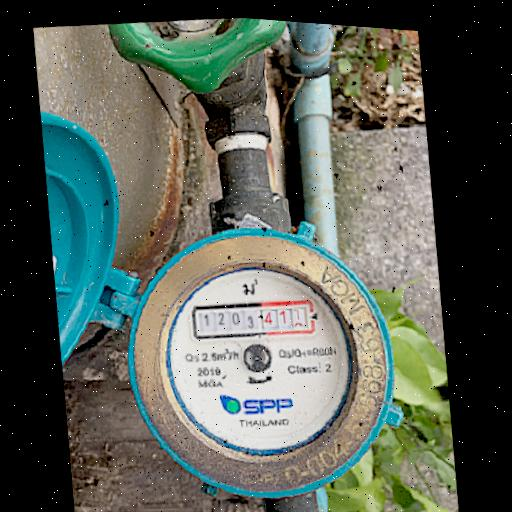0: (230, 310, 245, 331)
1: (200, 313, 215, 334), (277, 309, 292, 330), (292, 308, 306, 329)
2: (215, 312, 230, 332)
3: (244, 310, 259, 331)
4: (262, 310, 277, 331)
border_water_meter_number: (189, 291, 317, 349)
